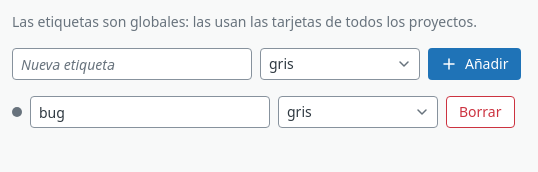
it: Etiquetas (RF-23, 4.8) › RF-23: crear una etiqueta duplicada (409) muestra el error y no la agrega
Check: the field named "Nombre de la etiqueta bug" is shown, box [30, 96, 270, 128]
In the field named "Nombre de la nueva etiqueta": point(132, 64) [12, 48, 252, 80], type "BUG"
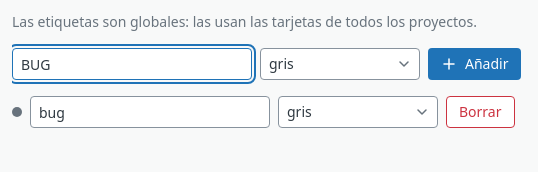
Click the button "Añadir": point(475, 64) [428, 48, 522, 80]
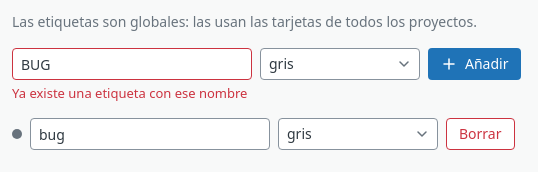
Check: the number of list items is 1, box [12, 118, 514, 150]
Check: the message reads "Ya existe una etiqueta con ese nombre", box [12, 84, 248, 102]
